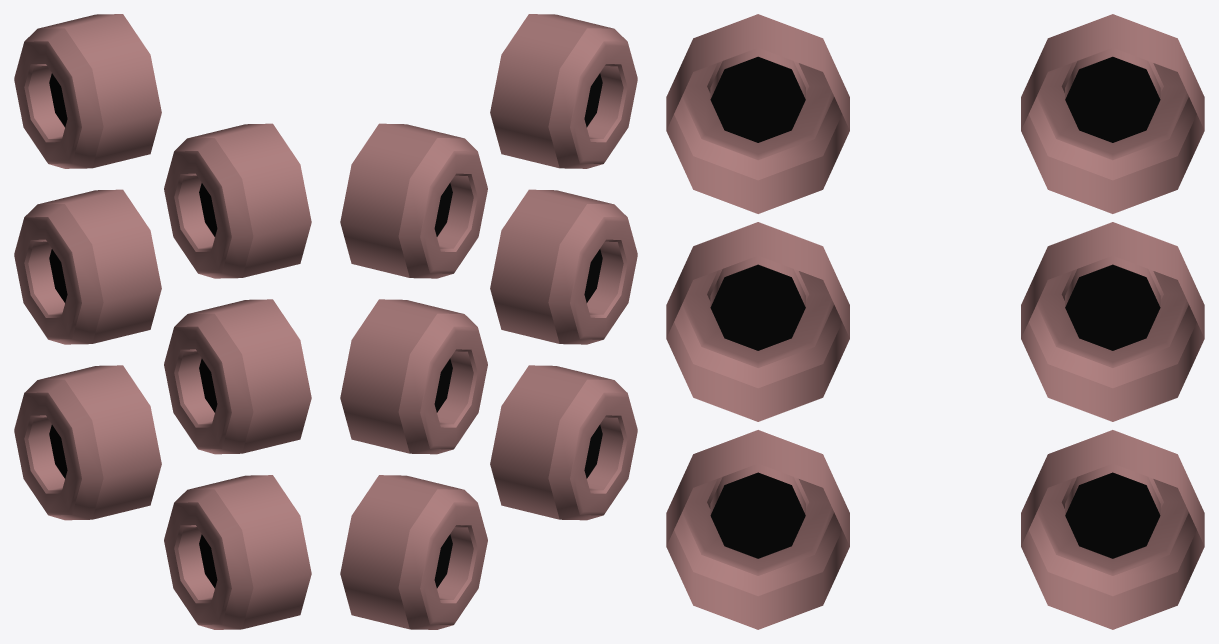
The model's file is ArrowTrap_Holes.fbx.
The picture shows the model from 3 angles, left to right: view 1: azimuth 30°, elevation 25°; view 2: azimuth 150°, elevation 25°; view 3: azimuth 270°, elevation 25°; orthographic projection. The views are drawn at different scales.
Parts seen in each view (by area): view 1: ArrowHoles; view 2: ArrowHoles; view 3: ArrowHoles.
Boxes of the visible parts, bbox=[...] form: ArrowHoles: bbox=[14, 14, 311, 629]; ArrowHoles: bbox=[340, 14, 637, 629]; ArrowHoles: bbox=[666, 14, 1204, 629].
Bounding box in the file's own units: 6.05 × 36.84 × 30.87.
